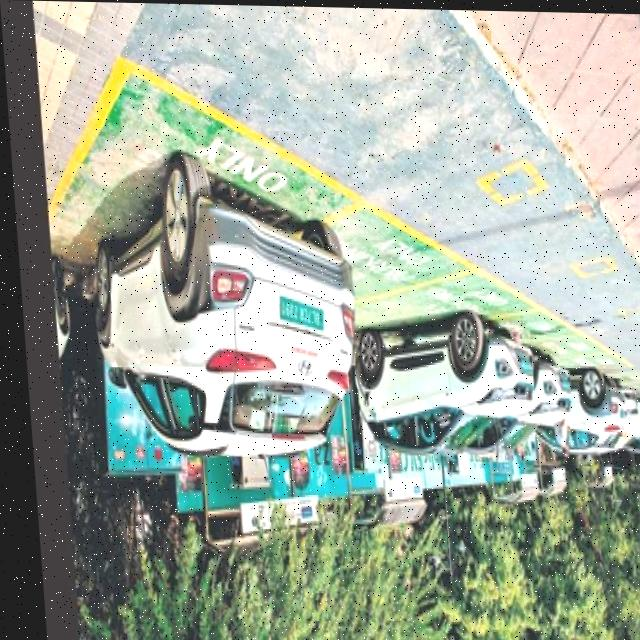plate: (273, 294, 323, 332)
